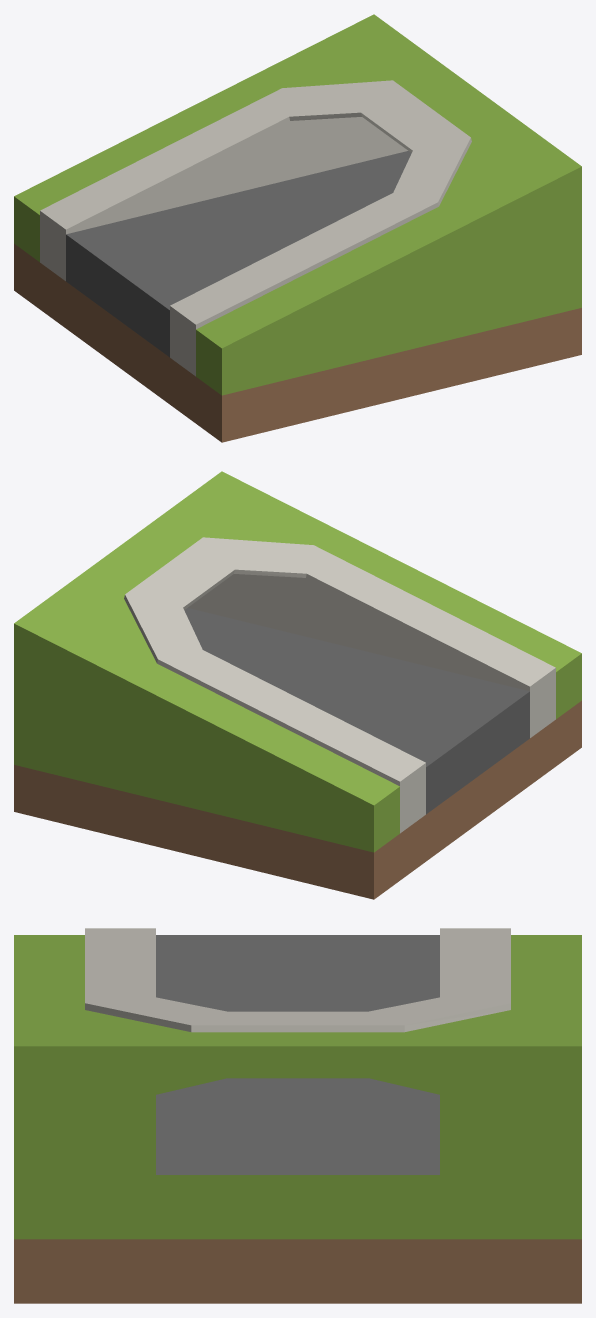
File: road-tunnel-entry.obj
3 renders of one model, top to bottom at view 1: azimuth 30°, elevation 25°; view 2: azimuth 150°, elevation 25°; view 3: azimuth 270°, elevation 25°, orthographic. The views are drawn at different scales.
Visible parts, largest first — view 1: road-tunnel-entry_Cube.169; view 2: road-tunnel-entry_Cube.169; view 3: road-tunnel-entry_Cube.169.
Part boxes in pixels (<box>): road-tunnel-entry_Cube.169: <box>14,14,581,442</box>; road-tunnel-entry_Cube.169: <box>14,471,581,899</box>; road-tunnel-entry_Cube.169: <box>14,928,581,1303</box>.
Size of the model in its own units: 8 by 4 by 8.
Materials: 1 (1 with a texture image).
